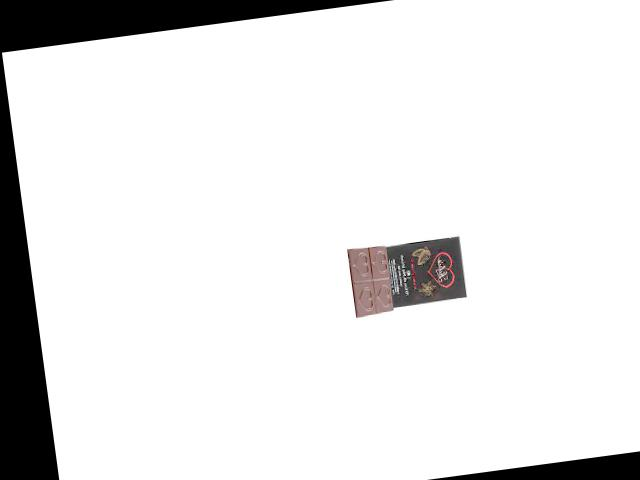chocolate: (342, 232, 469, 323)
